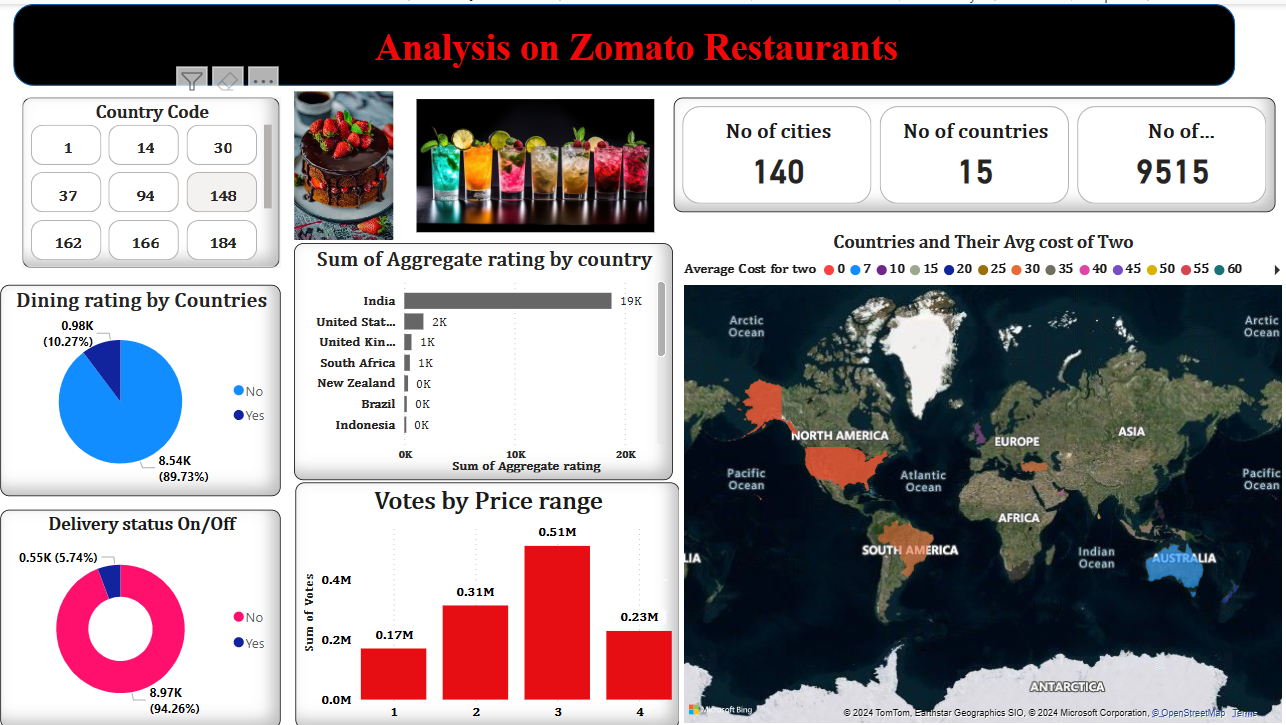

The dashboard page shown, as its layout file describes it:
{"tool":"powerbi","page":{"name":"Page 1","canvas":[1280,720],"ordinal":0},"visuals":[{"type":"pieChart","title":"Dining rating by Countries","fields":{"Category":["Sheet3.Has Table booking"],"Y":["CountNonNull(Sheet3.country)"]},"box":[1.2,278.8,278.8,210],"z":0},{"type":"lineClusteredColumnComboChart","title":" Votes by Price range","fields":{"Category":["Sheet3.Price range"],"Y":["Sum(Sheet3.Votes)"]},"box":[294.3,475.7,381.4,244.3],"z":1000},{"type":"donutChart","title":"Delivery status On/Off","fields":{"Category":["Sheet3.Has Online delivery"],"Y":["CountNonNull(Sheet3.country)"]},"box":[1.2,502.5,278.8,217.5],"z":2000},{"type":"clusteredBarChart","fields":{"Category":["Sheet3.country"],"Y":["Sum(Sheet3.Aggregate rating)"]},"box":[293.8,237.5,376.2,235],"z":3000},{"type":"shape","box":[13.8,0,1213.8,81.2],"z":4000},{"type":"textbox","box":[368.6,17.1,765.7,64.3],"z":5000},{"type":"cardVisual","fields":{"Data":["Sheet3.No of cities","Sheet3.No of countries","Sheet3.No of restaurants"]},"box":[670,92.5,597.5,113.8],"z":6000},{"type":"filledMap","title":"Countries and Their Avg cost of Two","fields":{"Category":["Sheet3.country"],"Y":["Avg(Sheet3.Latitude)"],"X":["Avg(Sheet3.Longitude)"],"Series":["Sheet3.Average Cost for two"]},"box":[675.7,225.7,604.3,494.3],"z":7000},{"type":"image","box":[265,81.7,155,158.3],"z":8000},{"type":"image","box":[409.3,81.3,246.6,158.8],"z":9000},{"type":"advancedSlicerVisual","fields":{"Values":["Sheet3.Country Code"]},"box":[23.2,93,255.6,169.1],"z":10000}]}

Visuals, with their boxes in screenshot pixels (x1, y1, x2, y2), scaled from the page's 1280x720 canvas onto the 1286x725 screenshot:
"Dining rating by Countries" pieChart: left=1, top=281, right=281, bottom=492
" Votes by Price range" lineClusteredColumnComboChart: left=296, top=479, right=679, bottom=724
"Delivery status On/Off" donutChart: left=1, top=506, right=281, bottom=724
clusteredBarChart - Sheet3.country x Sum(Sheet3.Aggregate rating): left=295, top=239, right=673, bottom=476
shape: left=14, top=0, right=1233, bottom=82
textbox: left=370, top=17, right=1140, bottom=82
cardVisual - Sheet3.No of cities x Sheet3.No of countries: left=673, top=93, right=1273, bottom=208
"Countries and Their Avg cost of Two" filledMap: left=679, top=227, right=1285, bottom=724
image: left=266, top=82, right=422, bottom=242
image: left=411, top=82, right=659, bottom=242
advancedSlicerVisual - Sheet3.Country Code: left=23, top=94, right=280, bottom=264
